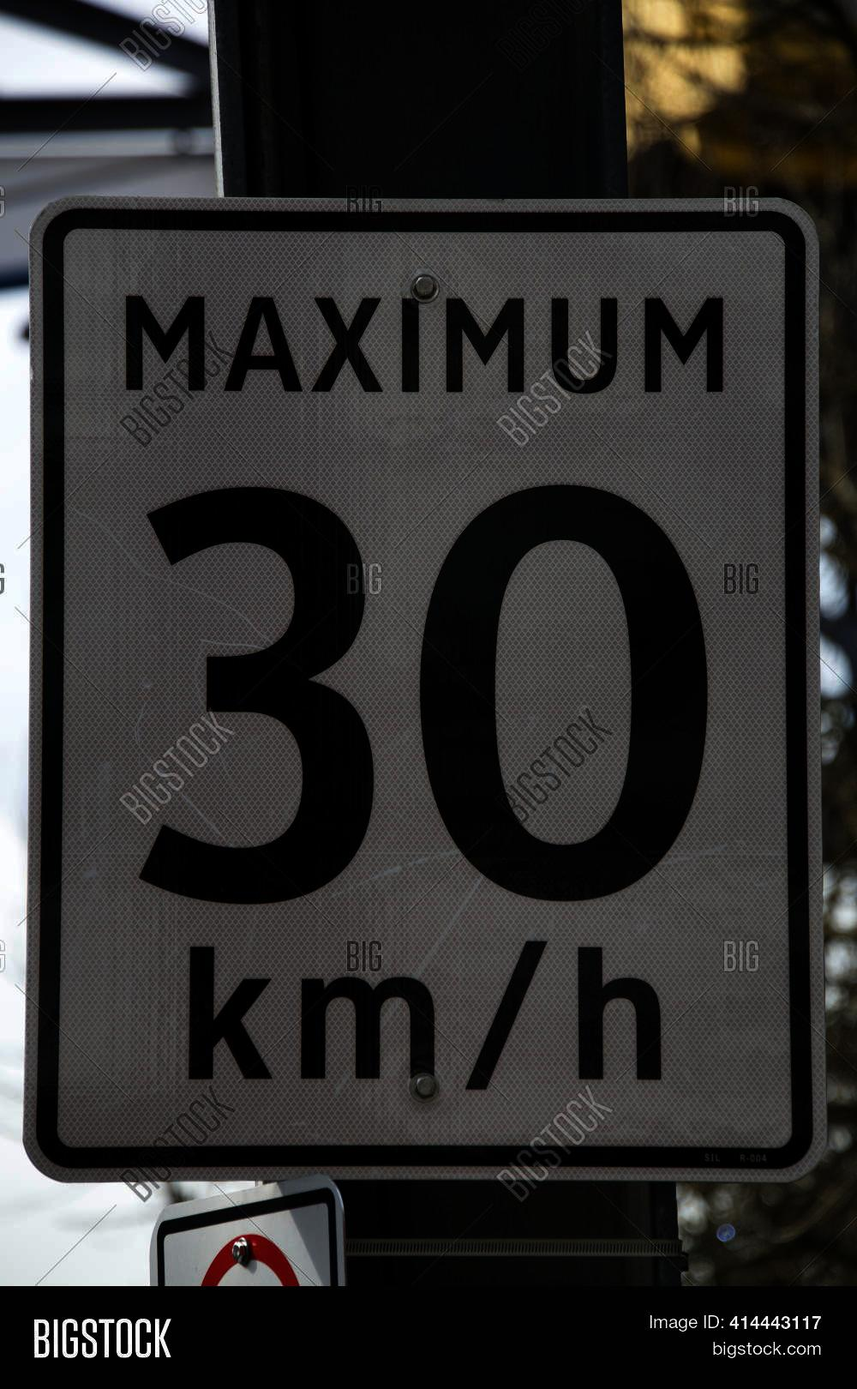speed limit sign: (32, 199, 823, 1182)
